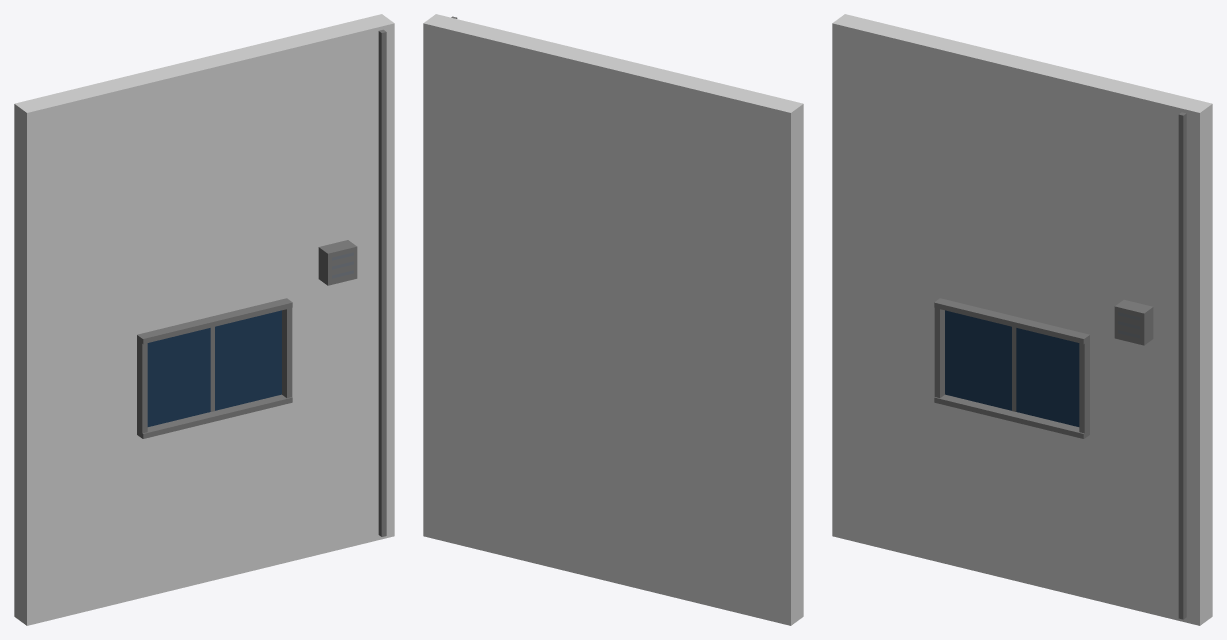
File: base-w1_close.fbx
3 views of the same model, side by side, from view 1: azimuth 30°, elevation 25°; view 2: azimuth 150°, elevation 25°; view 3: azimuth 330°, elevation 25° (orthographic).
Visible parts, largest first — view 1: a2004/0/base-w1_close; view 2: a2004/0/base-w1_close; view 3: a2004/0/base-w1_close.
Part boxes in pixels (x1,y1,x2,y2): a2004/0/base-w1_close: [14, 14, 394, 625]; a2004/0/base-w1_close: [423, 14, 803, 625]; a2004/0/base-w1_close: [832, 14, 1212, 625].
Size of the model in its own units: 3 by 4 by 0.315.
